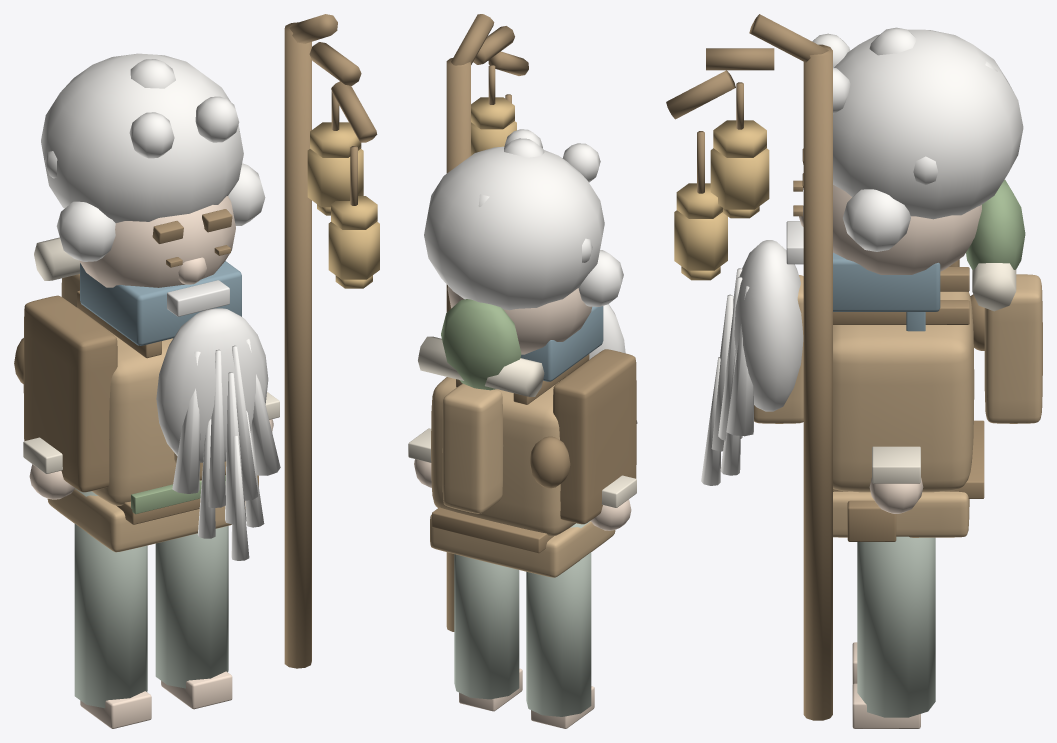
Rendered from npc_eldra_v4_C_strands.glb.
3 views of the same model, side by side, from view 1: azimuth 30°, elevation 25°; view 2: azimuth 150°, elevation 25°; view 3: azimuth 270°, elevation 25° (orthographic). The views are drawn at different scales.
Visible parts, largest first — view 1: Hair_Dome, Staff_Pole, Backpack, Trousers_L, Trousers_R, Beard_Mass, Vest_Body, Head_Mesh, Scarf_Front, Vest_Skirt, Hair_Wisp_L, Lantern_2_Body (+28 smaller); view 2: Hair_Dome, Backpack, Trousers_L, Trousers_R, Vest_Body, Sleeve_R, Backpack_Herb, Vest_Skirt, Staff_Pole, Head_Mesh, Bedroll, Belt (+18 smaller); view 3: Hair_Dome, Vest_Body, Staff_Pole, Trousers_R, Beard_Mass, Sleeve_R, Head_Mesh, Scarf_Front, Vest_Skirt, Backpack_Herb, Hair_Wisp_R, Lantern_1_Body (+23 smaller).
Part boxes in pixels (x1,y1,x2,y2): Hair_Dome: (41,53,243,222); Staff_Pole: (284,22,311,668); Backpack: (23,295,117,492); Trousers_L: (74,488,147,708); Trousers_R: (155,526,228,688); Beard_Mass: (156,308,268,462); Vest_Body: (92,331,175,505); Head_Mesh: (79,196,235,287); Scarf_Front: (80,261,241,345); Vest_Skirt: (47,489,245,552); Hair_Wisp_L: (56,201,115,261); Lantern_2_Body: (328,221,379,279); Hair_Dome: (424,146,604,310); Backpack: (553,349,636,524); Trousers_L: (526,521,591,716); Trousers_R: (454,554,519,699); Vest_Body: (431,377,575,536); Sleeve_R: (442,384,503,513); Backpack_Herb: (441,299,521,390); Vest_Skirt: (430,514,615,577); Staff_Pole: (446,58,470,631); Head_Mesh: (447,286,591,354); Bedroll: (418,336,544,396); Belt: (432,507,553,553); Hair_Dome: (833,29,1023,219); Vest_Body: (833,291,974,492); Staff_Pole: (803,44,832,720); Trousers_R: (857,536,935,717); Beard_Mass: (733,240,803,411); Sleeve_R: (984,274,1042,423); Head_Mesh: (833,185,981,274); Scarf_Front: (833,252,940,311); Vest_Skirt: (833,491,969,537); Backpack_Herb: (966,179,1025,269); Hair_Wisp_R: (843,189,910,251); Lantern_1_Body: (710,148,769,209).
Size of the model in its own units: 0.6143 by 1.67 by 0.7714.
